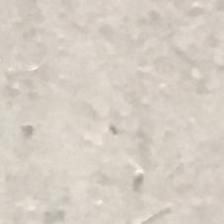Non_Crack: (35, 14, 168, 180)
